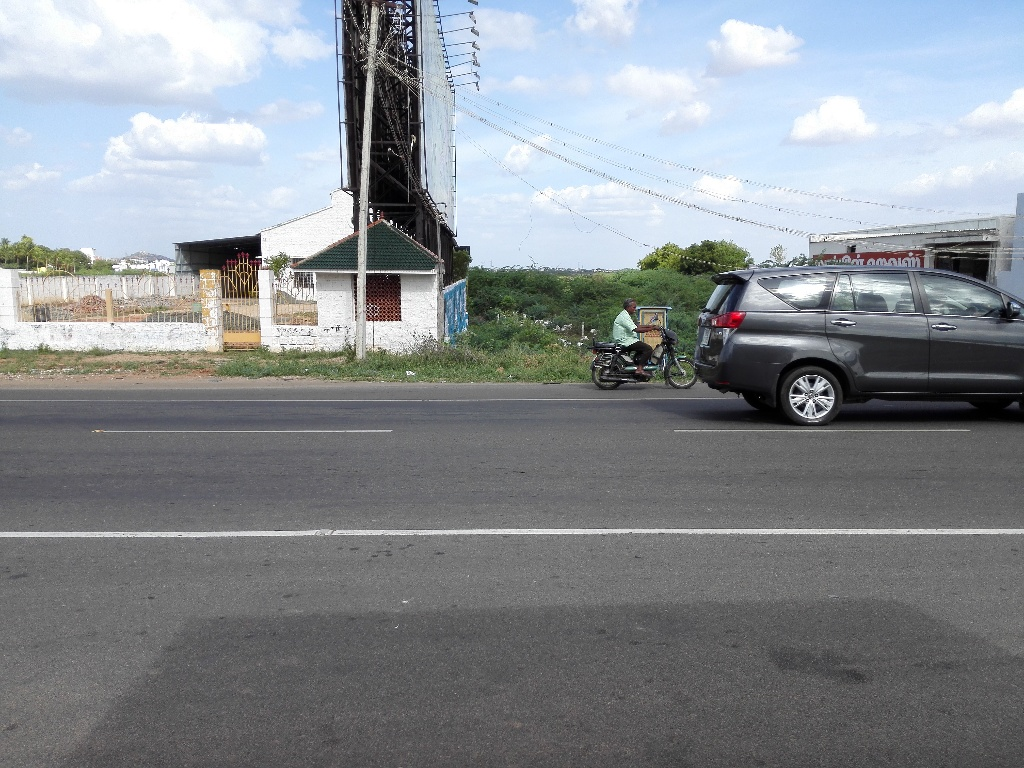biker: (578, 268, 701, 400)
nohelmet: (618, 291, 646, 325)
